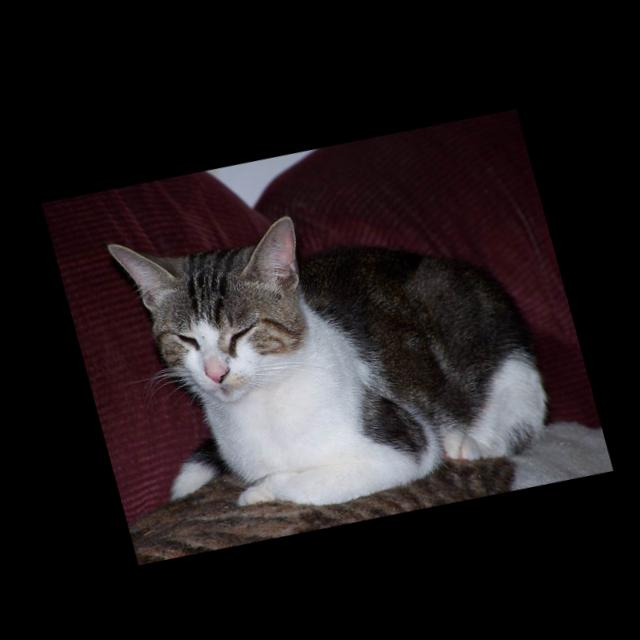animals: (106, 200, 323, 401)
